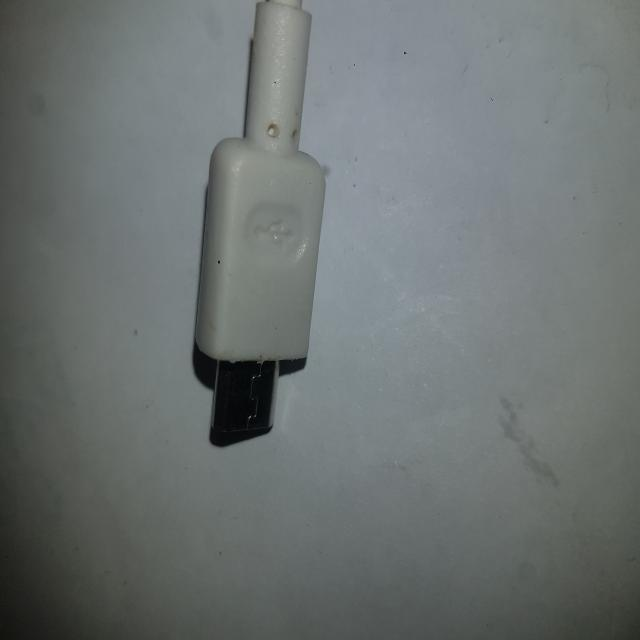electronic: (193, 1, 327, 444)
